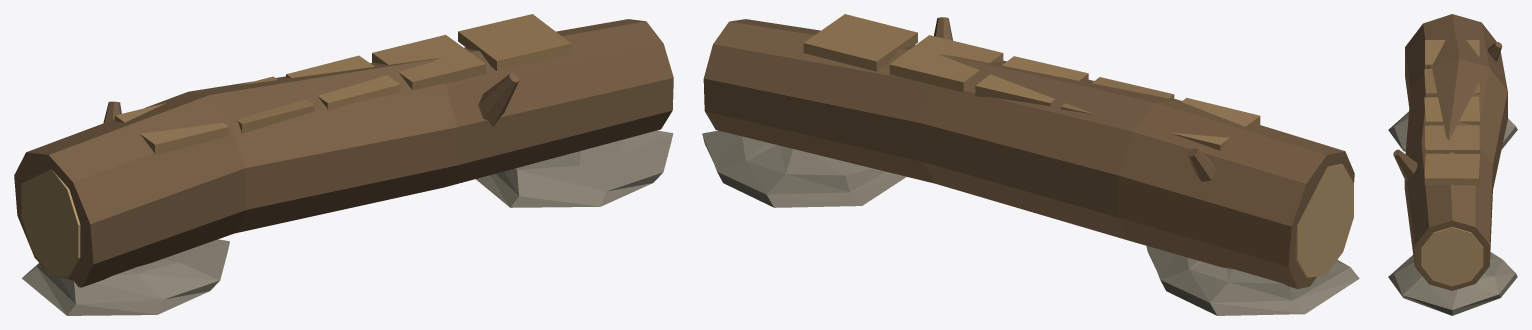
The model's file is fallen-log.glb.
3 renders of one model, left to right at view 1: azimuth 30°, elevation 25°; view 2: azimuth 150°, elevation 25°; view 3: azimuth 270°, elevation 25°, orthographic. The views are drawn at different scales.
Parts seen in each view (by area): view 1: fallen-log; view 2: fallen-log; view 3: fallen-log.
Part boxes in pixels (left/top/right/bottom): fallen-log: left=14, top=14, right=673, bottom=315; fallen-log: left=702, top=14, right=1359, bottom=315; fallen-log: left=1388, top=14, right=1517, bottom=315.
Bounding box in the file's own units: 4.28 × 1.01 × 1.12.
